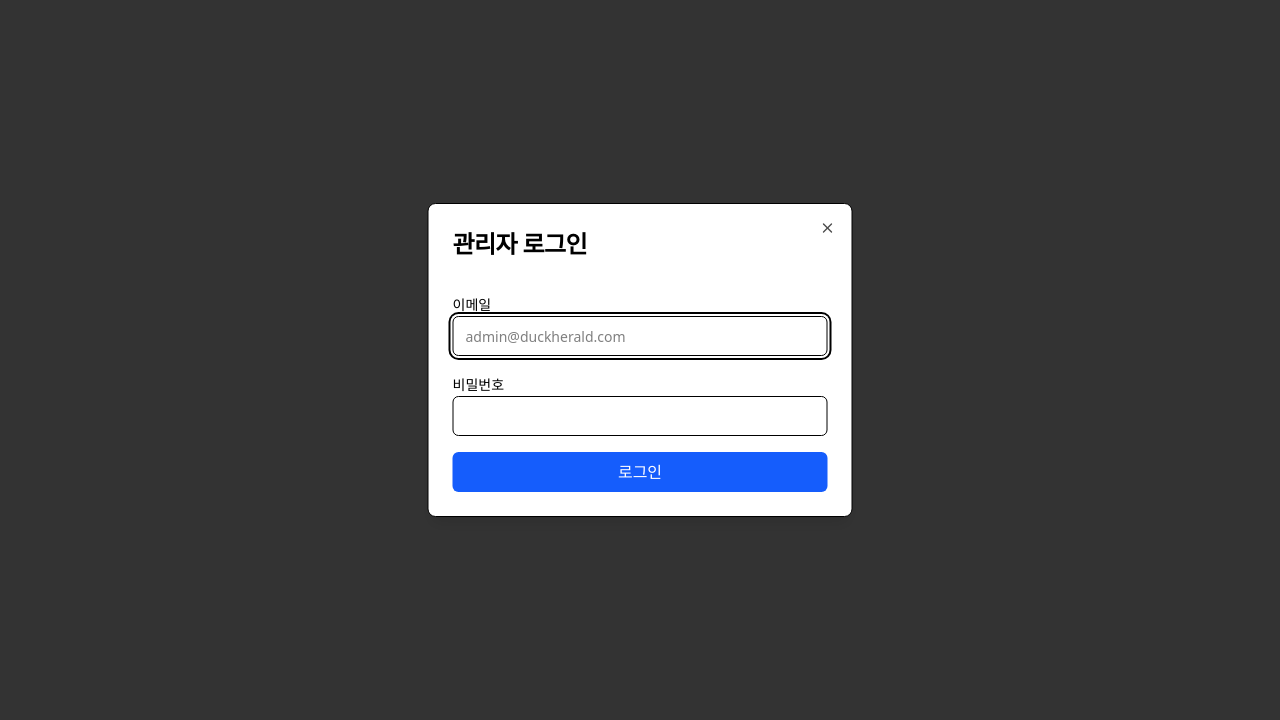
LoginModal › 로그인 실패 시 에러 메시지가 표시되어야 함
Type "wrong@example.com" into the field labelled "이메일" at [640, 336], box 452,316 -> 828,356
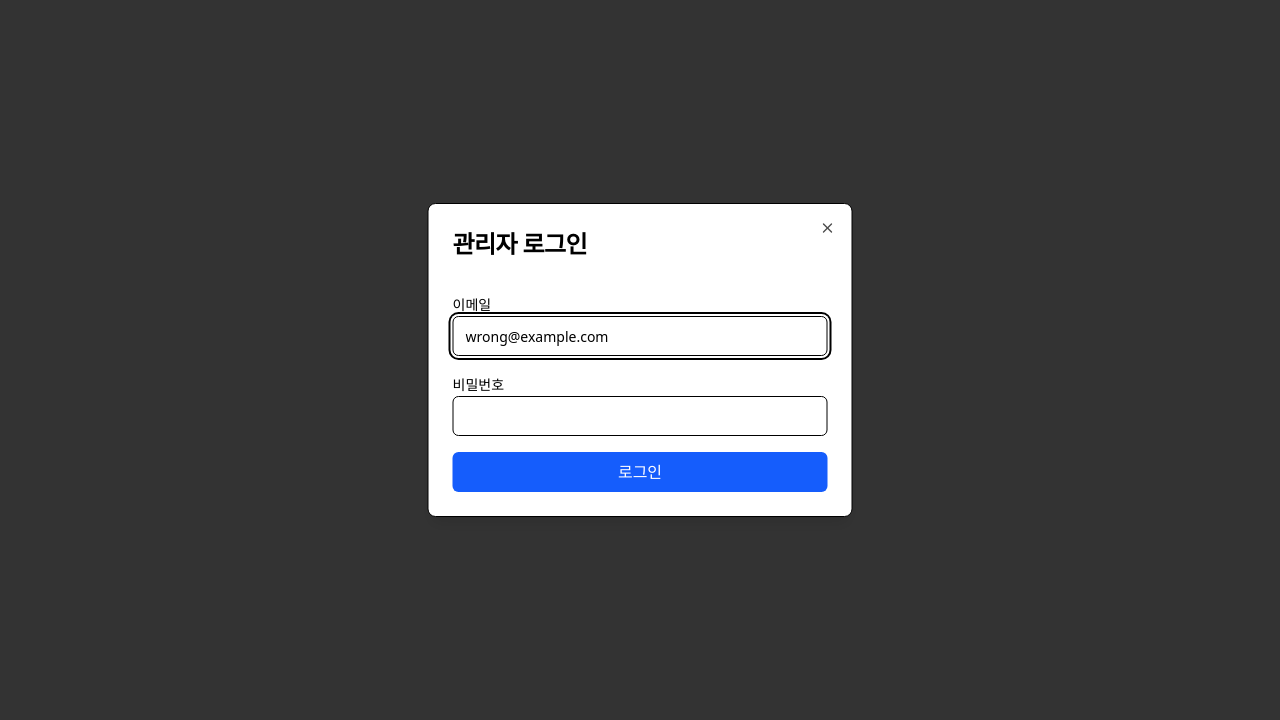
Note:  비밀번호 입력
Type "wrongpassword" into the password field labelled "비밀번호" at [640, 416], box 452,396 -> 828,436
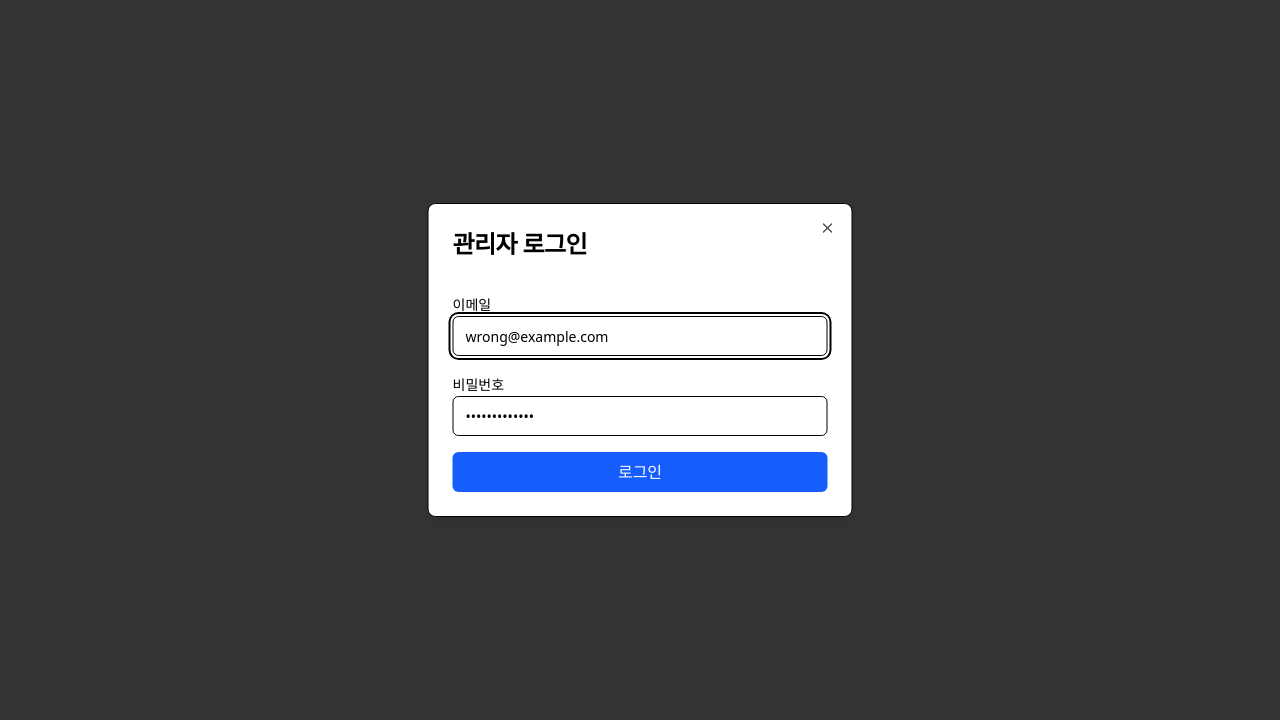
Click the button "로그인" at [640, 472], box 452,452 -> 828,492
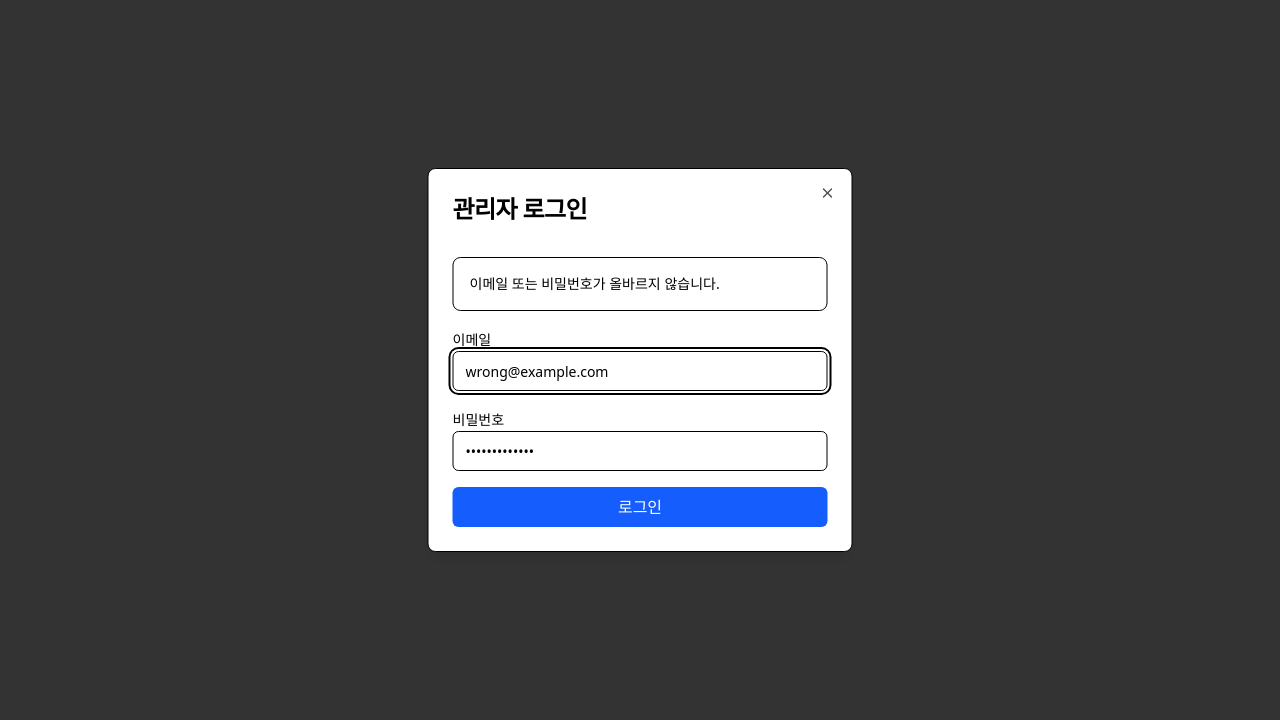
Expected: the text "이메일 또는 비밀번호가 올바르지 않습니다." is shown, 470,274 -> 720,293
